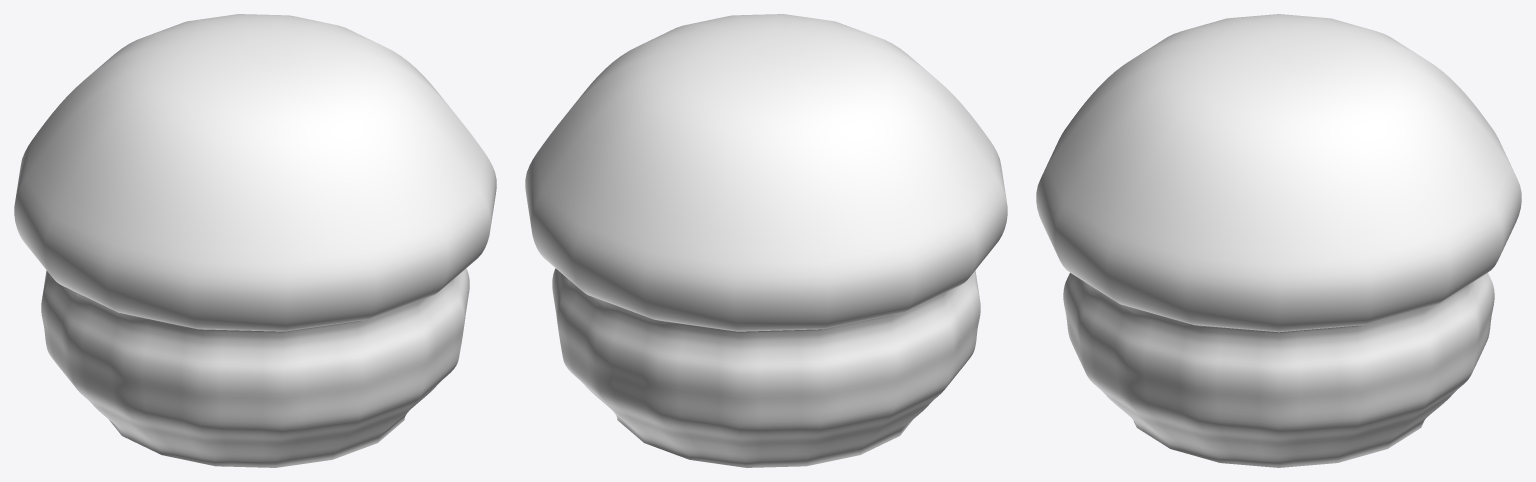
The model's file is jellyfish.fbx.
The picture shows the model from 3 angles, left to right: view 1: azimuth 30°, elevation 25°; view 2: azimuth 150°, elevation 25°; view 3: azimuth 270°, elevation 25°; orthographic projection.
Parts seen in each view (by area): view 1: jellyfish; view 2: jellyfish; view 3: jellyfish.
Part boxes in pixels (x1=…): jellyfish: x1=14, y1=14, x2=496, y2=467; jellyfish: x1=525, y1=14, x2=1007, y2=467; jellyfish: x1=1036, y1=14, x2=1521, y2=467.
Size of the model in its own units: 5.68 by 4.57 by 5.68.
1 material, 1 textured.
